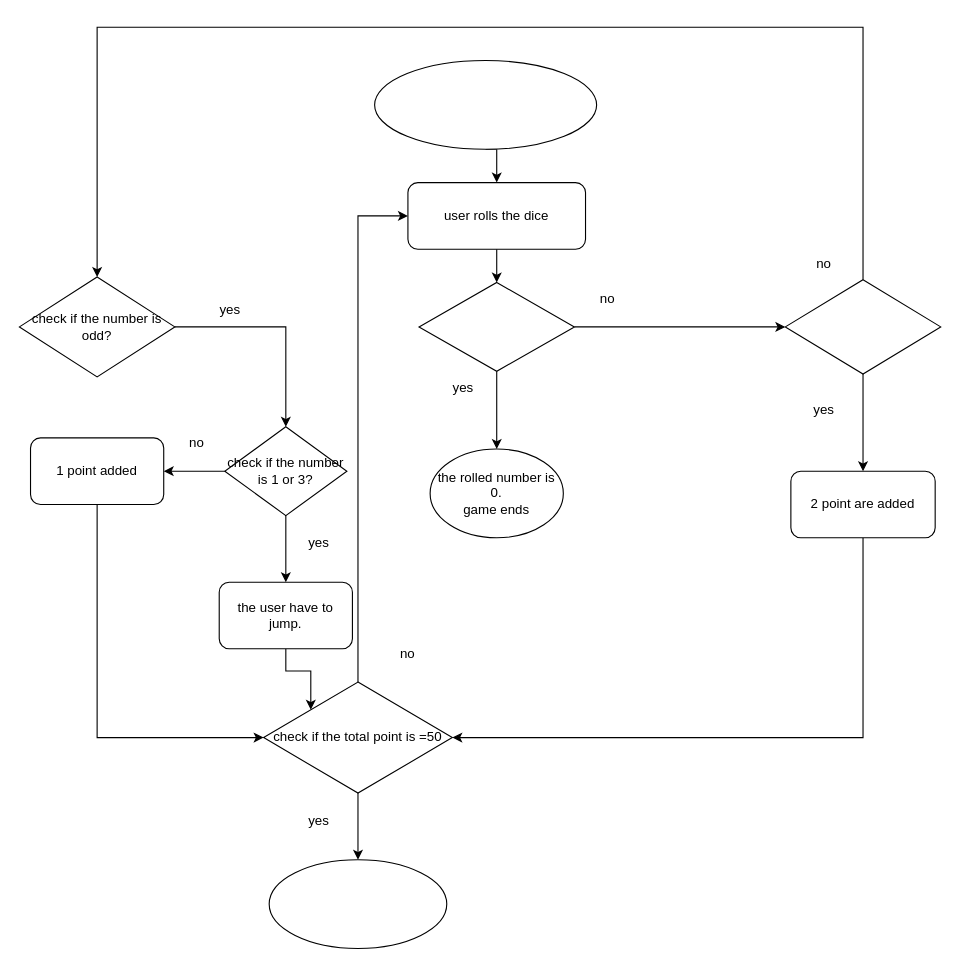
Image size: 960x968. Some labels were removed from this diagram. Each missing label, with the box of its shape:
check if the number is even?: (784, 279, 941, 374)
check if the the rolled number is zero: (418, 281, 574, 371)
the user starts with 0 points: (374, 59, 597, 149)
user has 50 points . game ends: (268, 859, 447, 948)
